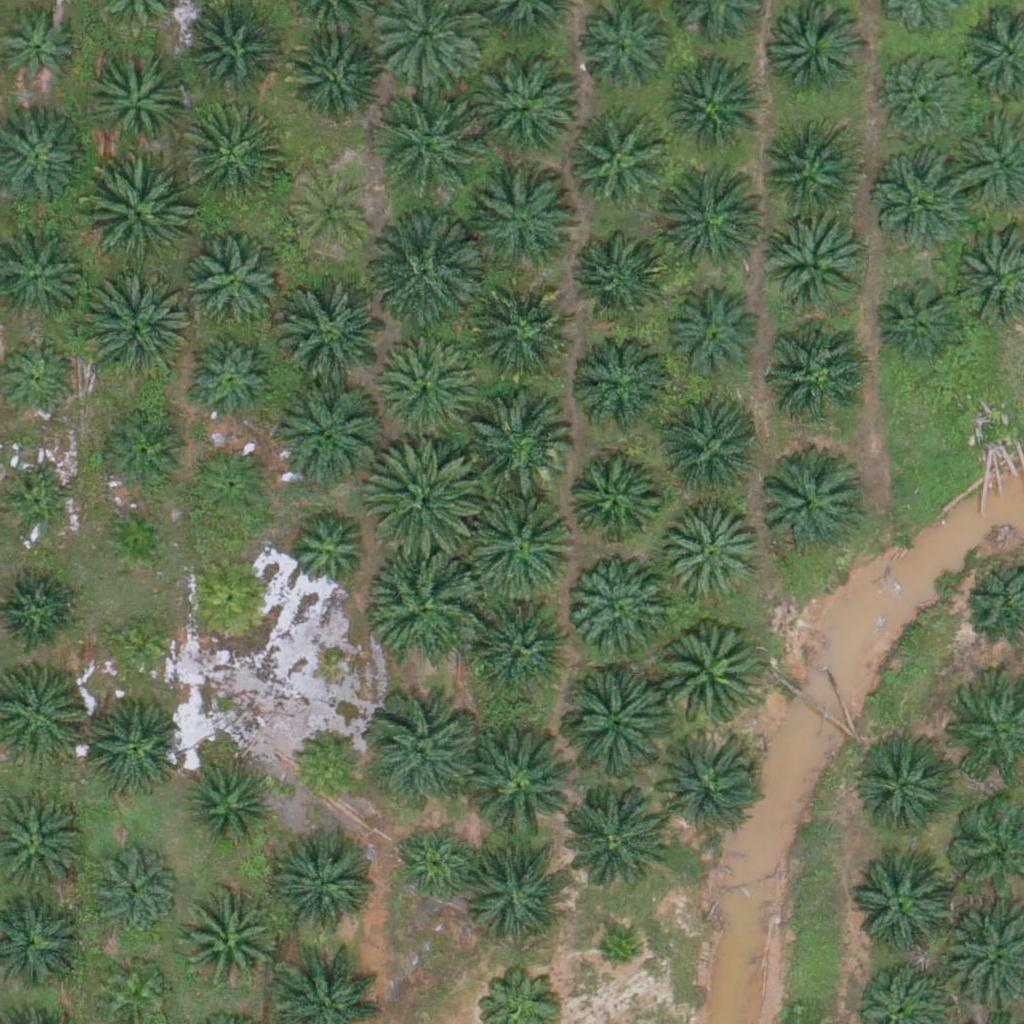Kelapa_Sawit: (368, 91, 481, 205), (556, 667, 669, 780), (553, 784, 666, 897), (371, 548, 484, 661), (368, 696, 481, 809), (461, 384, 574, 497), (368, 217, 481, 330), (78, 270, 191, 383), (79, 158, 192, 271), (460, 726, 572, 840), (464, 485, 576, 599), (366, 437, 478, 551), (652, 619, 764, 732), (649, 727, 761, 840), (465, 836, 577, 949), (656, 162, 768, 275), (177, 100, 289, 213), (275, 283, 387, 396), (270, 376, 382, 489), (767, 4, 867, 105), (79, 698, 179, 799), (178, 891, 278, 992), (275, 830, 375, 931), (853, 858, 953, 959), (859, 732, 959, 833), (756, 456, 856, 557), (663, 505, 763, 606), (561, 450, 661, 551), (568, 558, 668, 659), (875, 145, 975, 246), (759, 214, 859, 315), (759, 126, 859, 227), (663, 58, 763, 159), (377, 338, 477, 439), (182, 232, 282, 333), (86, 51, 186, 152), (661, 407, 761, 507), (475, 596, 575, 696), (765, 324, 865, 424), (661, 283, 761, 383), (573, 328, 673, 428), (565, 108, 665, 208), (570, 224, 670, 324), (476, 57, 576, 157), (476, 174, 576, 274), (468, 287, 568, 387), (278, 27, 378, 127), (186, 552, 274, 641), (880, 50, 968, 139), (392, 822, 480, 910), (186, 439, 274, 527), (287, 170, 375, 258), (188, 335, 275, 424), (579, 3, 666, 91), (91, 843, 178, 931), (185, 763, 272, 851), (282, 507, 369, 595), (876, 276, 963, 364), (97, 409, 184, 497), (289, 724, 364, 800), (97, 501, 172, 577), (101, 609, 176, 685), (3, 472, 78, 547), (594, 930, 644, 980)
